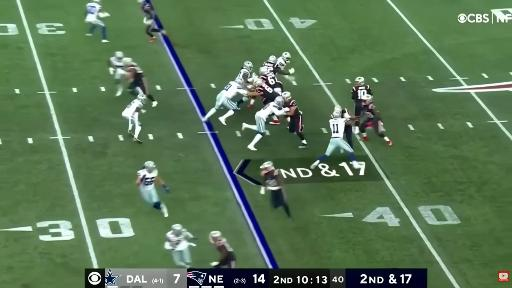Helmet: (210, 230, 223, 243), (262, 160, 274, 174), (145, 161, 157, 172), (280, 91, 292, 102), (113, 50, 123, 63), (280, 52, 291, 62), (243, 61, 253, 71), (332, 111, 343, 120), (173, 225, 182, 235), (363, 95, 373, 104), (275, 96, 284, 106), (254, 78, 263, 87), (268, 55, 278, 63), (356, 77, 365, 85), (139, 95, 147, 103), (124, 58, 132, 66), (236, 78, 243, 86), (260, 67, 268, 74), (138, 0, 147, 5), (335, 107, 342, 111)
Jersey: (166, 230, 193, 250), (256, 82, 280, 104), (256, 102, 285, 119), (260, 72, 282, 94), (221, 82, 246, 99), (263, 169, 282, 191), (138, 169, 157, 190), (352, 85, 372, 103), (122, 99, 143, 116), (330, 118, 346, 137), (86, 3, 101, 21), (128, 65, 143, 83), (214, 238, 233, 252), (286, 100, 301, 117), (142, 3, 155, 19), (236, 68, 250, 81), (365, 103, 377, 118), (274, 57, 286, 70), (110, 57, 123, 68), (264, 61, 274, 67)
Player: (311, 111, 359, 169), (242, 96, 289, 150), (203, 78, 247, 125), (136, 161, 169, 217), (260, 162, 291, 217), (123, 58, 157, 106), (360, 102, 392, 145), (283, 92, 307, 148), (165, 224, 195, 268), (122, 94, 146, 143), (138, 0, 165, 42), (352, 77, 372, 133), (85, 0, 109, 42), (209, 231, 235, 268), (248, 78, 279, 109), (109, 52, 125, 96), (274, 52, 294, 80), (260, 72, 283, 94), (236, 62, 253, 83), (259, 56, 277, 74), (335, 106, 351, 118), (264, 56, 277, 67)
